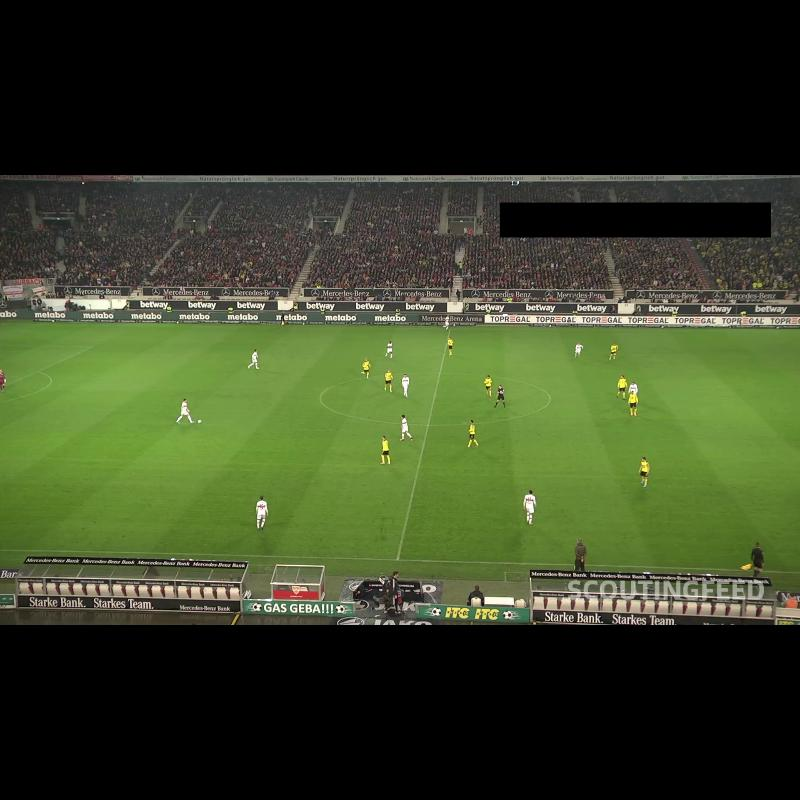cross_recipient_zone: (0, 346, 92, 390)
crossing_player_zone: (0, 323, 215, 348), (701, 331, 800, 357), (0, 444, 18, 458)
pitch: (0, 322, 800, 572)
